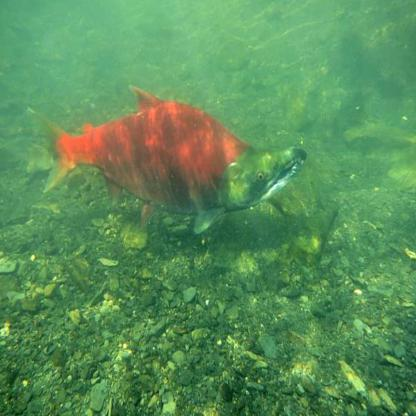sockeye: (31, 82, 306, 221)
